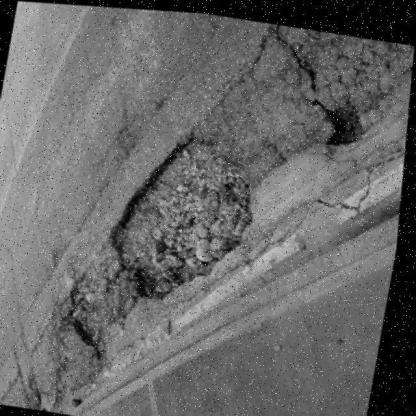pothole: (100, 119, 272, 311), (57, 272, 131, 360), (320, 96, 368, 147)
